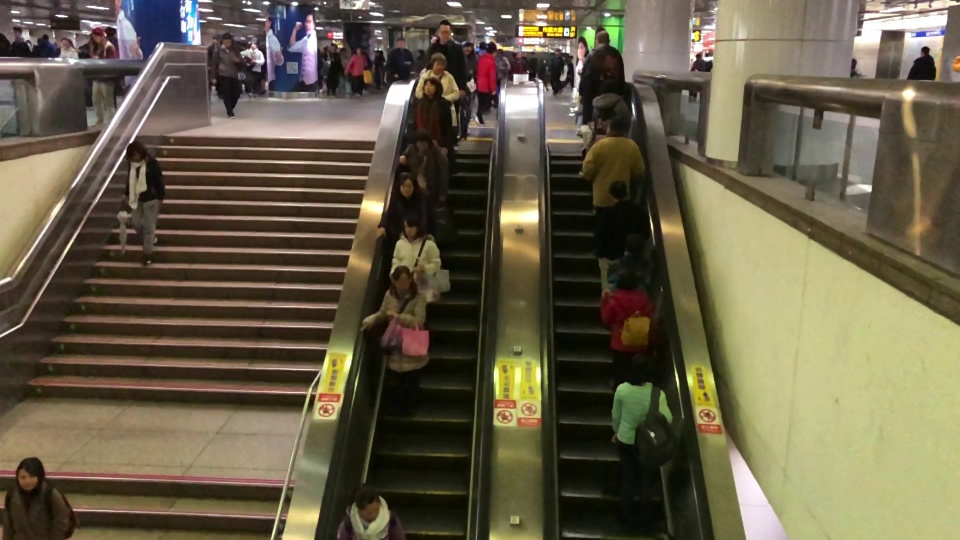person_head: (14, 456, 45, 492), (353, 486, 381, 518), (627, 352, 653, 386), (400, 213, 422, 240), (391, 264, 412, 290), (614, 269, 638, 290), (397, 171, 416, 197), (607, 179, 628, 202), (422, 75, 444, 96), (429, 51, 448, 75), (125, 140, 147, 160), (604, 116, 624, 136), (412, 129, 431, 150), (624, 233, 643, 253), (438, 19, 451, 42), (599, 79, 618, 93), (594, 30, 611, 45), (221, 33, 233, 47), (919, 45, 931, 57), (93, 28, 103, 42), (486, 44, 495, 56), (395, 38, 405, 48), (13, 27, 22, 38), (61, 38, 71, 47), (250, 39, 258, 49), (851, 57, 857, 69), (42, 33, 49, 40), (554, 49, 560, 56), (356, 47, 362, 53), (705, 51, 712, 56), (696, 53, 702, 58)
person_vbox: (611, 352, 678, 539), (359, 264, 430, 418), (581, 116, 646, 258), (598, 269, 657, 394), (2, 456, 78, 540), (586, 79, 632, 216), (593, 180, 645, 293), (427, 19, 471, 151), (121, 140, 166, 267), (374, 171, 439, 247), (387, 212, 442, 301), (337, 486, 406, 540), (398, 129, 450, 200), (414, 51, 460, 129), (578, 29, 624, 103), (209, 33, 245, 120), (412, 75, 453, 150), (89, 28, 119, 128), (606, 233, 655, 293), (474, 44, 497, 127), (239, 39, 266, 97), (344, 45, 369, 98), (386, 38, 415, 80), (905, 46, 936, 81), (549, 47, 565, 97), (692, 54, 706, 103), (11, 27, 31, 57), (35, 33, 56, 57), (59, 39, 79, 59), (850, 57, 867, 78), (0, 32, 10, 56), (704, 51, 713, 72)
